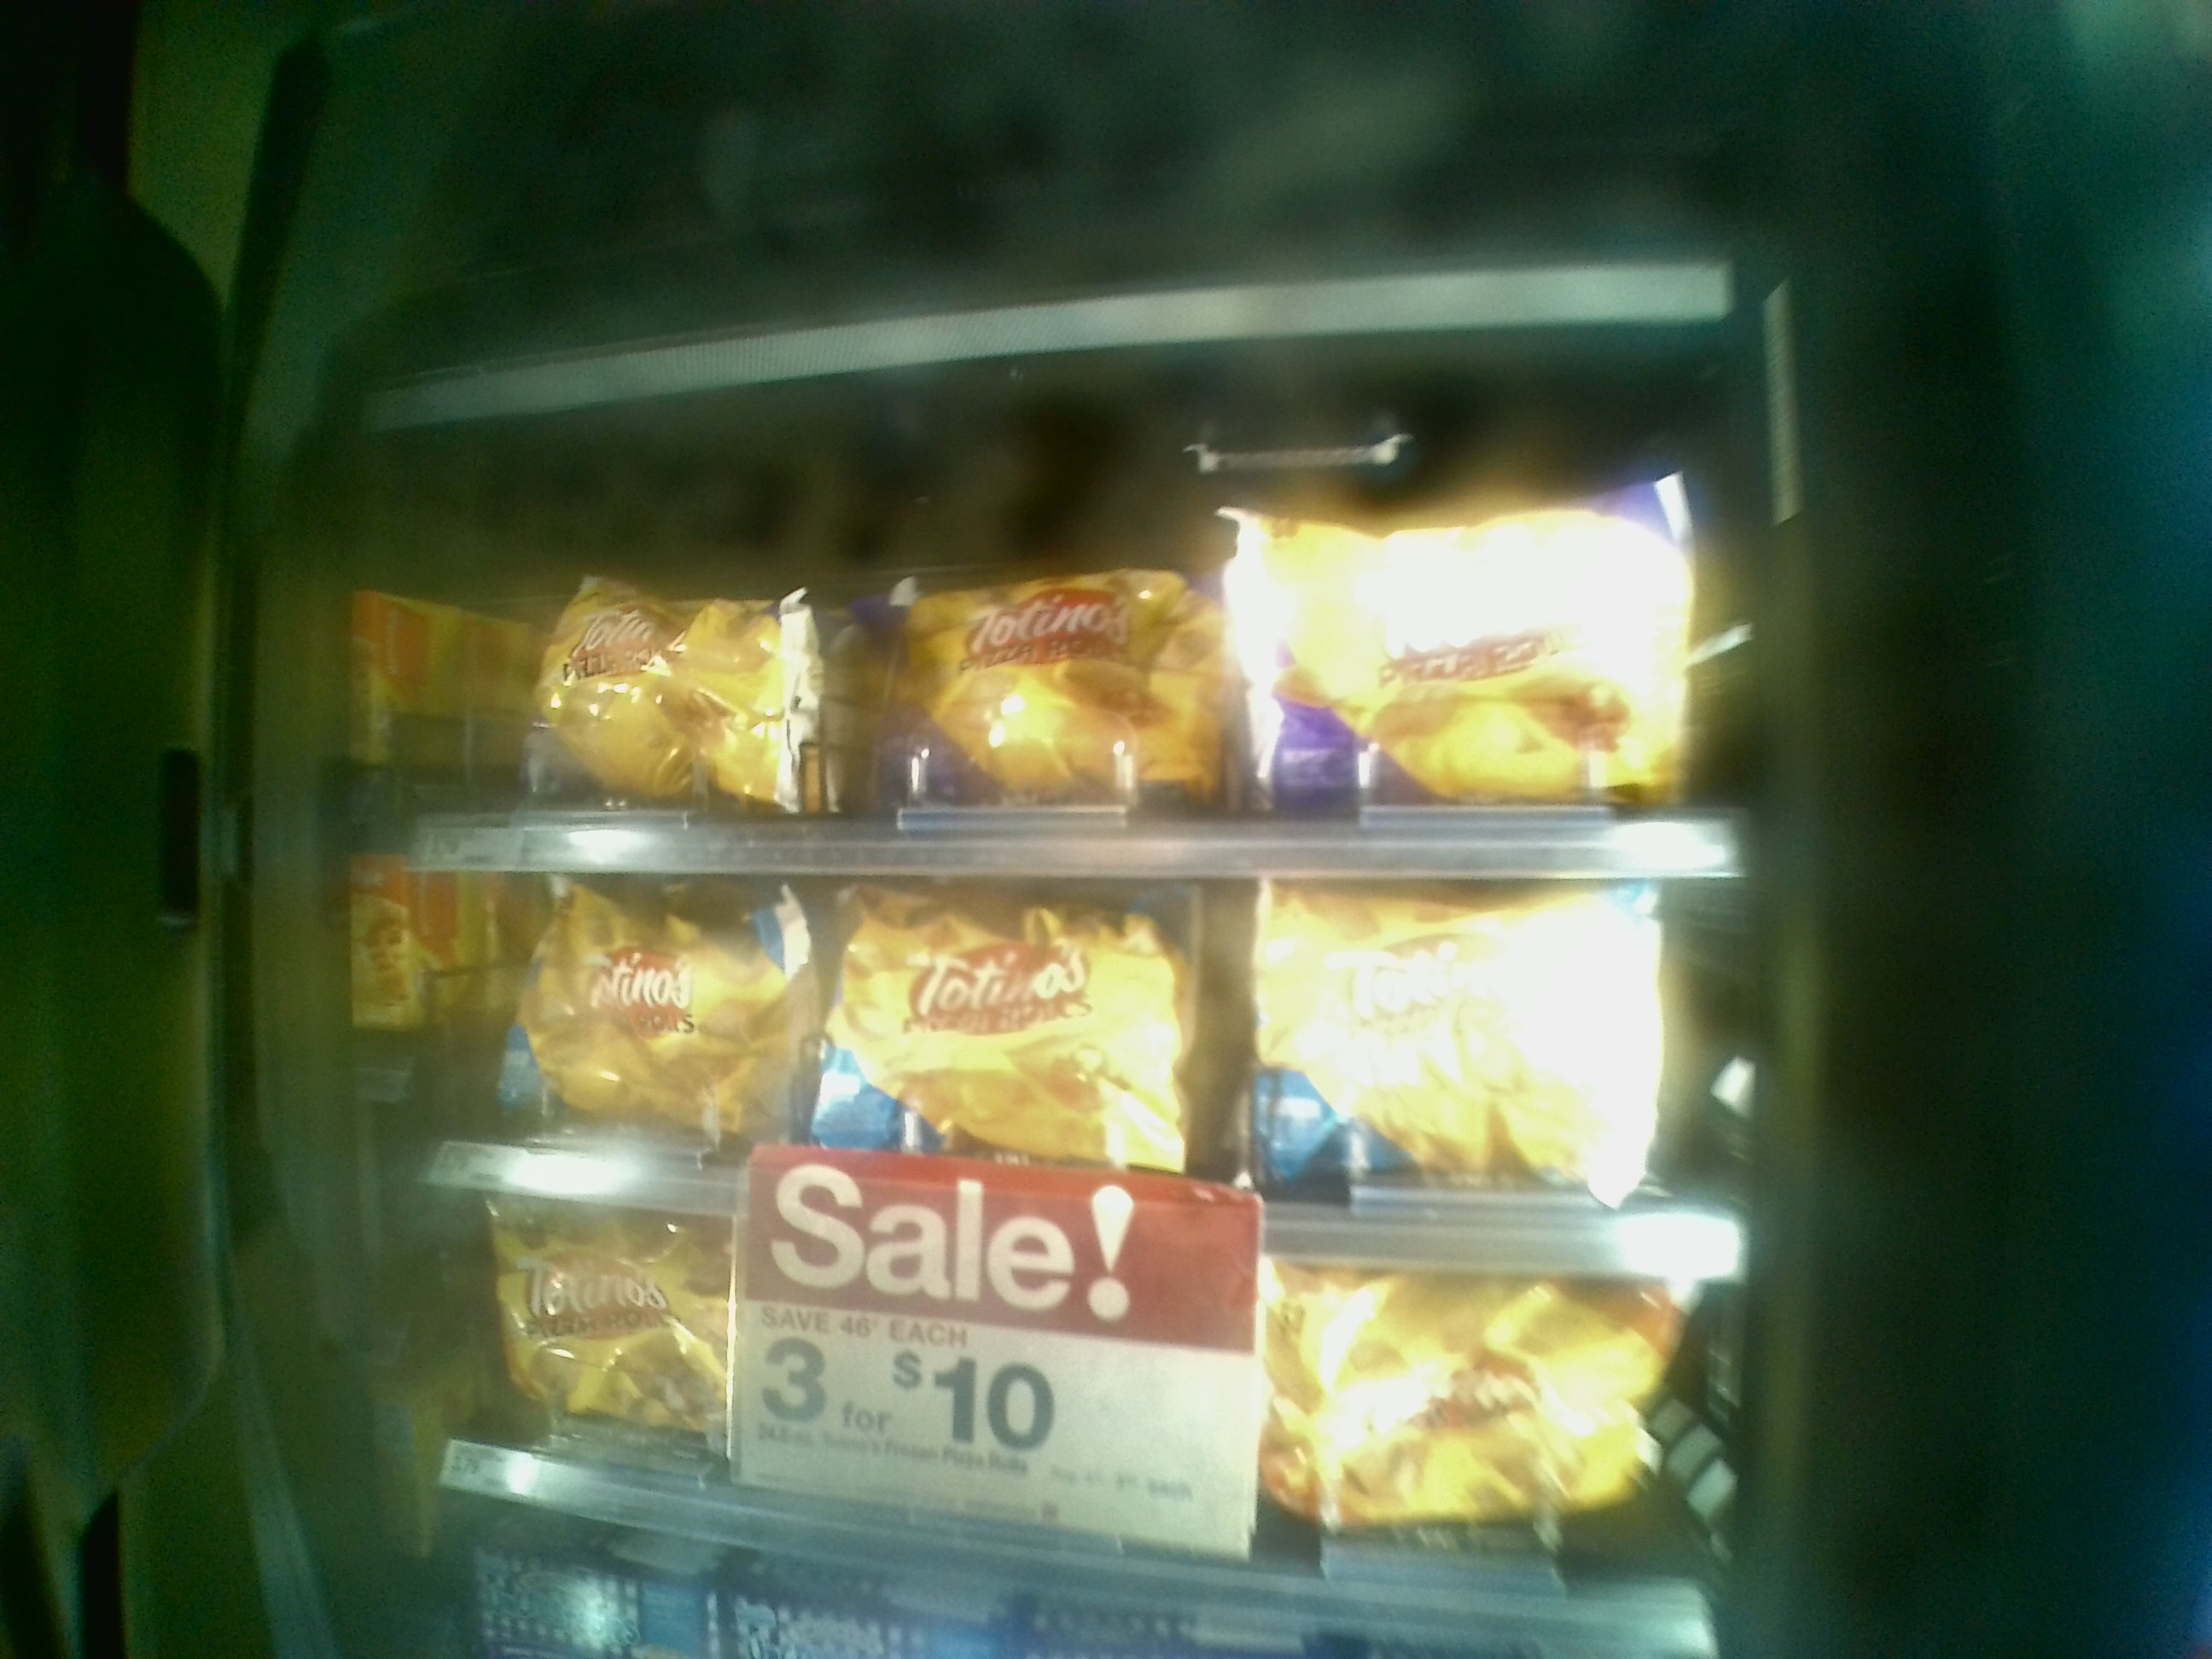shelf: (319, 427, 1763, 878), (319, 1215, 1742, 1650), (355, 854, 1752, 1281)
